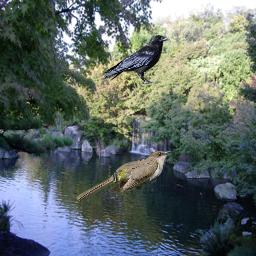Crow: (101, 33, 170, 86)
Cuckoo: (76, 150, 171, 201)
